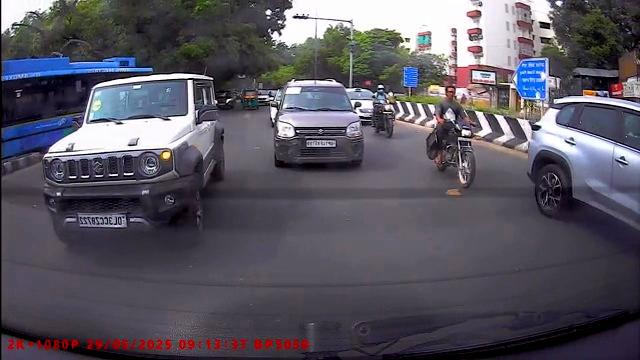motorcycle_with_helmet: (370, 84, 396, 139)
motorcycle_without_helmet: (427, 84, 477, 191)
